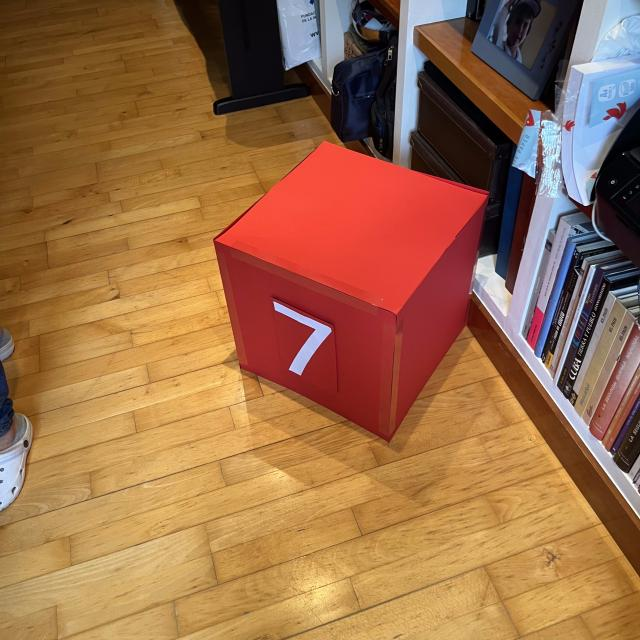box: (211, 138, 491, 444)
